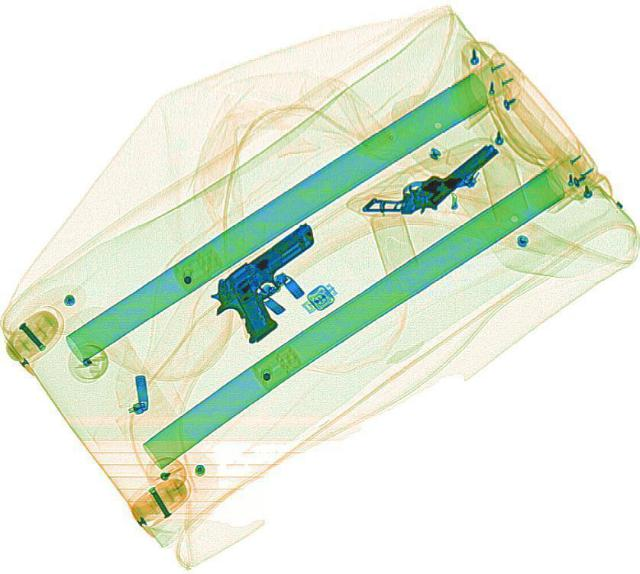Gun: (192, 220, 358, 346), (358, 119, 498, 236)
